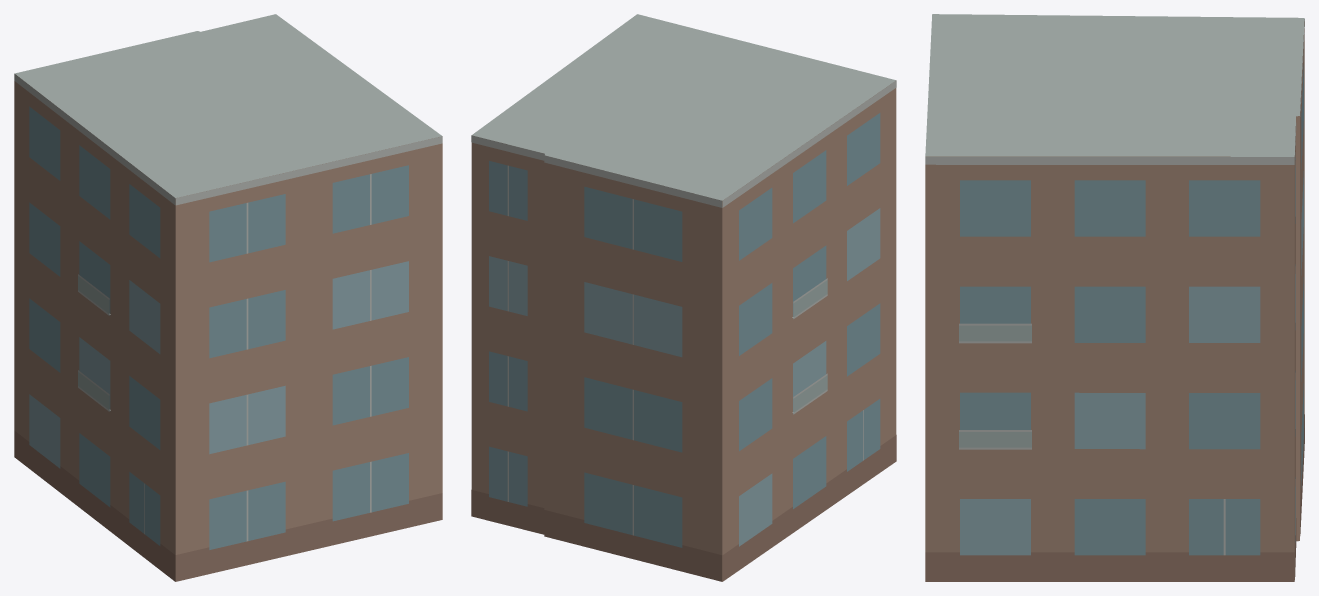
Rendered from survey-upis-32972244.glb.
The picture shows the model from 3 angles, left to right: view 1: azimuth 30°, elevation 25°; view 2: azimuth 150°, elevation 25°; view 3: azimuth 270°, elevation 25°; orthographic projection. The views are drawn at different scales.
Parts seen in each view (by area): view 1: survey-upis-32972244.tmp; view 2: survey-upis-32972244.tmp; view 3: survey-upis-32972244.tmp.
Boxes of the visible parts, bbox=[...] form: survey-upis-32972244.tmp: bbox=[14, 14, 442, 581]; survey-upis-32972244.tmp: bbox=[471, 14, 896, 581]; survey-upis-32972244.tmp: bbox=[925, 14, 1304, 581].
Bounding box in the file's own units: 9.26 × 12.8 × 10.36.
